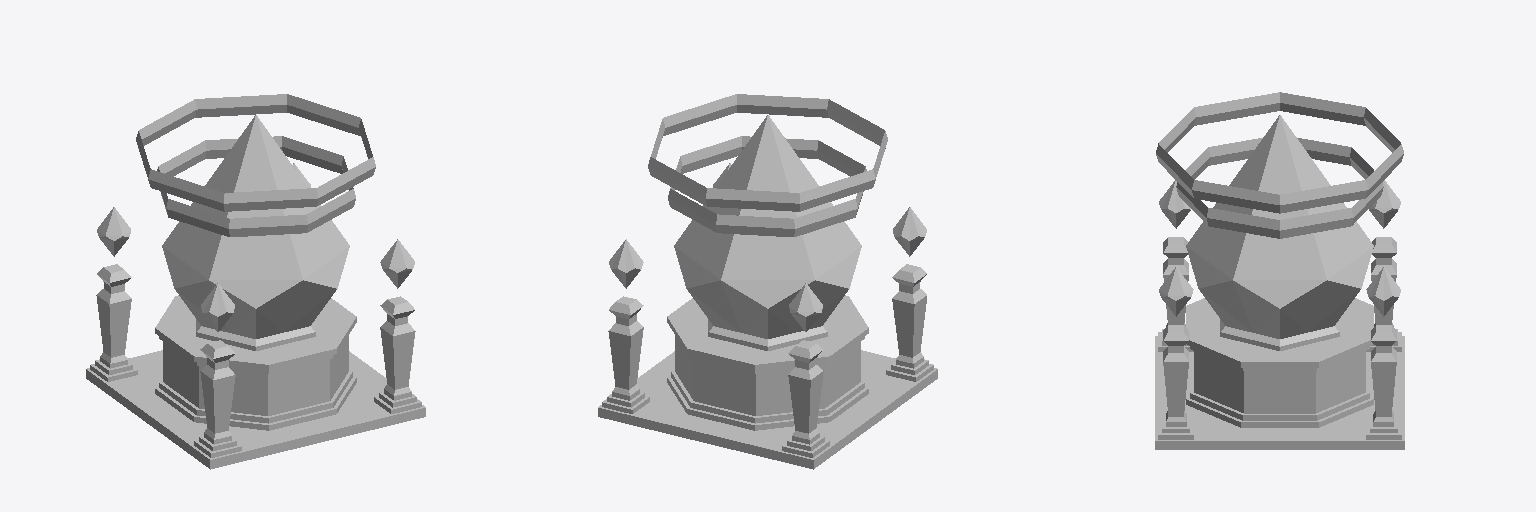
Rendered from matrix_crystal_core.obj.
3 views of the same model, side by side, from view 1: azimuth 30°, elevation 25°; view 2: azimuth 150°, elevation 25°; view 3: azimuth 270°, elevation 25° (orthographic).
Visible parts, largest first — view 1: CornerCrystal005, Pedestal, Base, CrystalRing003, CrystalRing01, CornerPillar04, CornerPillar01, CornerPillar03, MainCrystalBrace, CornerCrystal01, CornerCrystal04, CornerCrystal03; view 2: CornerCrystal005, Pedestal, Base, CrystalRing003, CrystalRing01, CornerPillar01, CornerPillar04, CornerPillar02, MainCrystalBrace, CornerCrystal04, CornerCrystal01, CornerCrystal02; view 3: CornerCrystal005, Pedestal, CrystalRing003, Base, CrystalRing01, CornerPillar02, CornerPillar03, MainCrystalBrace, CornerPillar01, CornerPillar04, CornerCrystal02, CornerCrystal03 (+2 smaller).
Part boxes in pixels (bbox=[...]): CornerCrystal005: bbox=[162, 115, 349, 338]; Pedestal: bbox=[155, 295, 356, 430]; Base: bbox=[86, 350, 425, 469]; CrystalRing003: bbox=[136, 94, 375, 211]; CrystalRing01: bbox=[157, 136, 355, 236]; CornerPillar04: bbox=[194, 340, 241, 457]; CornerPillar01: bbox=[90, 264, 137, 381]; CornerPillar03: bbox=[374, 296, 421, 413]; MainCrystalBrace: bbox=[196, 319, 315, 350]; CornerCrystal01: bbox=[97, 207, 130, 256]; CornerCrystal04: bbox=[201, 283, 234, 331]; CornerCrystal03: bbox=[380, 239, 414, 288]; CornerCrystal005: bbox=[674, 115, 861, 338]; Pedestal: bbox=[667, 295, 868, 430]; Base: bbox=[598, 350, 937, 469]; CrystalRing003: bbox=[648, 94, 887, 211]; CrystalRing01: bbox=[668, 136, 866, 236]; CornerPillar01: bbox=[782, 340, 829, 457]; CornerPillar04: bbox=[886, 264, 933, 381]; CornerPillar02: bbox=[602, 296, 649, 413]; MainCrystalBrace: bbox=[708, 319, 827, 350]; CornerCrystal04: bbox=[893, 207, 926, 256]; CornerCrystal01: bbox=[789, 283, 822, 331]; CornerCrystal02: bbox=[609, 239, 643, 288]; CornerCrystal005: bbox=[1186, 115, 1373, 338]; Pedestal: bbox=[1186, 298, 1373, 427]; CrystalRing003: bbox=[1156, 92, 1403, 213]; Base: bbox=[1155, 336, 1404, 449]; CrystalRing01: bbox=[1176, 138, 1383, 238]; CornerPillar02: bbox=[1366, 325, 1401, 439]; CornerPillar03: bbox=[1158, 325, 1193, 439]; MainCrystalBrace: bbox=[1220, 319, 1339, 350]; CornerPillar01: bbox=[1366, 237, 1401, 351]; CornerPillar04: bbox=[1158, 237, 1193, 351]; CornerCrystal02: bbox=[1366, 267, 1400, 316]; CornerCrystal03: bbox=[1159, 267, 1193, 316].
Size of the model in its own units: 2.95 by 3.7 by 2.95.